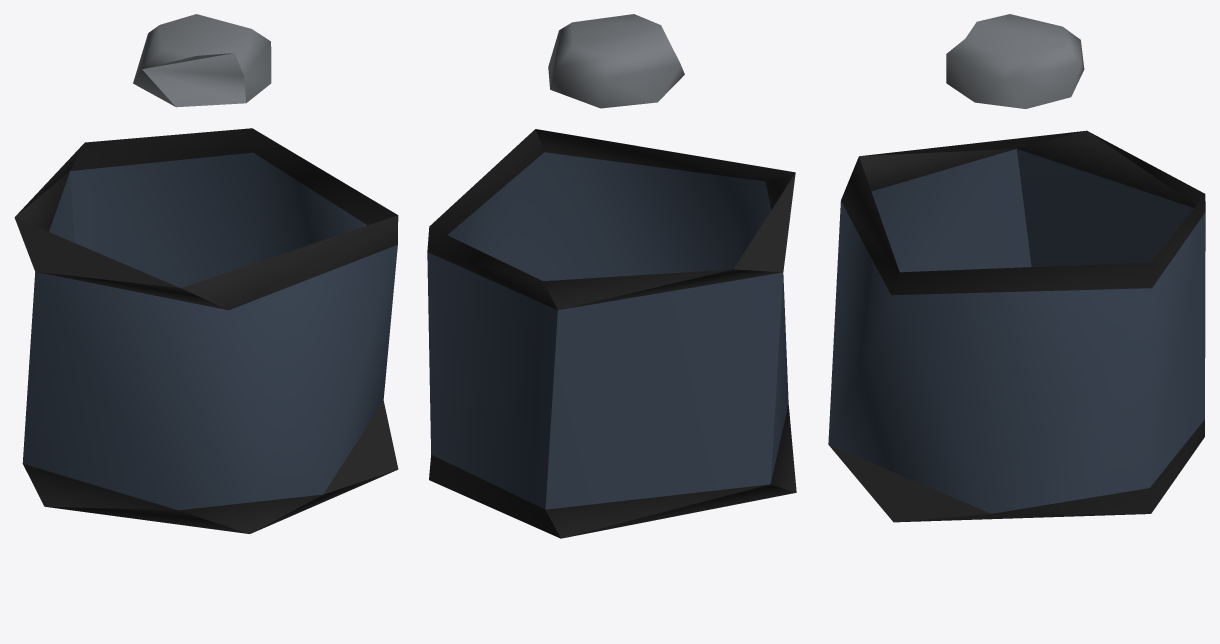
File: env_ruin_tank_01_lod2.fbx
3 views of the same model, side by side, from view 1: azimuth 30°, elevation 25°; view 2: azimuth 150°, elevation 25°; view 3: azimuth 270°, elevation 25° (orthographic).
Visible parts, largest first — view 1: env_ruin_tank_01_lod2; view 2: env_ruin_tank_01_lod2; view 3: env_ruin_tank_01_lod2.
Boxes of the visible parts, x1,y1,x2,y2 form: env_ruin_tank_01_lod2: [14, 14, 398, 533]; env_ruin_tank_01_lod2: [427, 14, 796, 538]; env_ruin_tank_01_lod2: [828, 14, 1205, 522].
Size of the model in its own units: 36.59 by 56.73 by 35.39.
